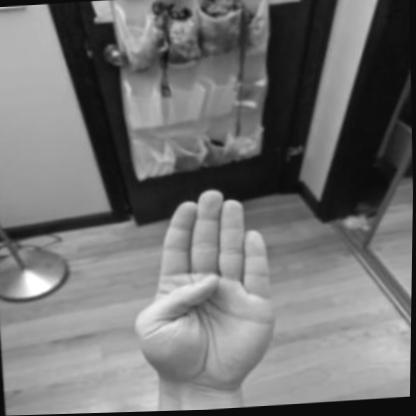B: (116, 181, 286, 406)
